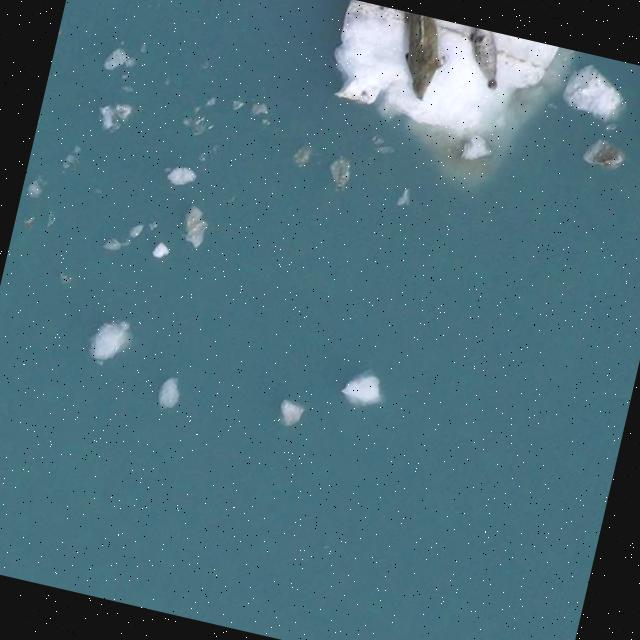seal: (396, 6, 453, 101), (468, 23, 509, 92)
